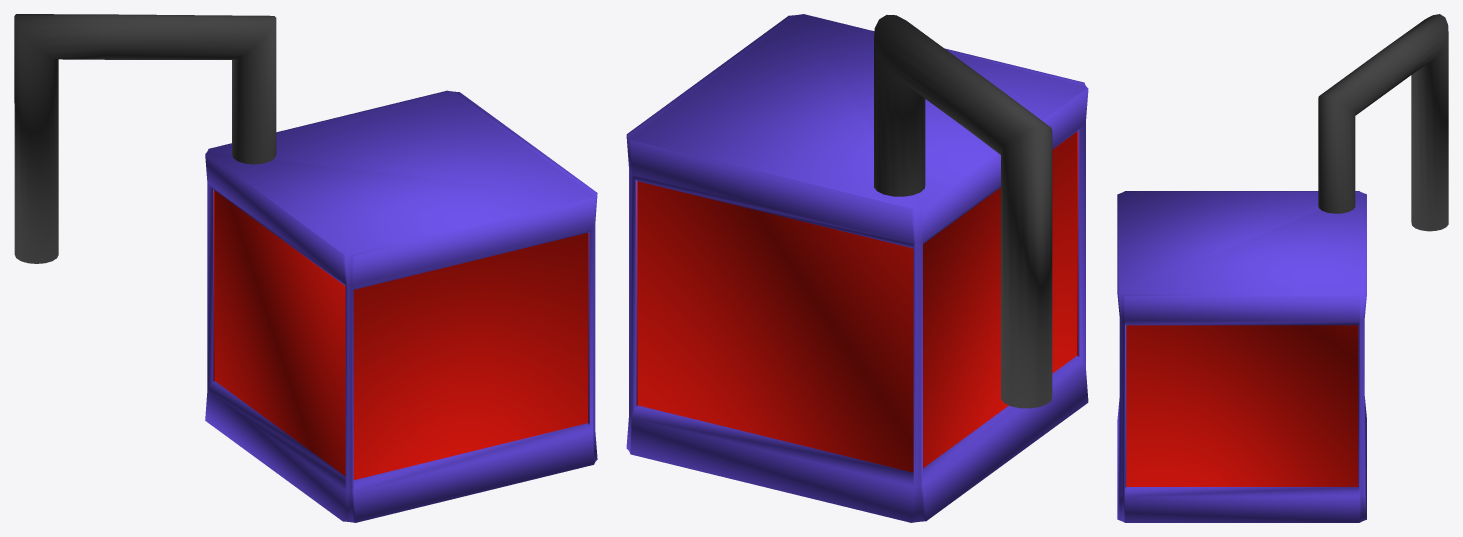
Rendered from PuzzleCube.glb.
The picture shows the model from 3 angles, left to right: view 1: azimuth 30°, elevation 25°; view 2: azimuth 150°, elevation 25°; view 3: azimuth 270°, elevation 25°; orthographic projection. The views are drawn at different scales.
Parts seen in each view (by area): view 1: Cube; view 2: Cube; view 3: Cube.
Part boxes in pixels (x1,y1,x2,y2): Cube: (14,14,597,522); Cube: (626,14,1088,522); Cube: (1117,14,1448,522).
Size of the model in its own units: 3.14 by 3.04 by 2.65.
